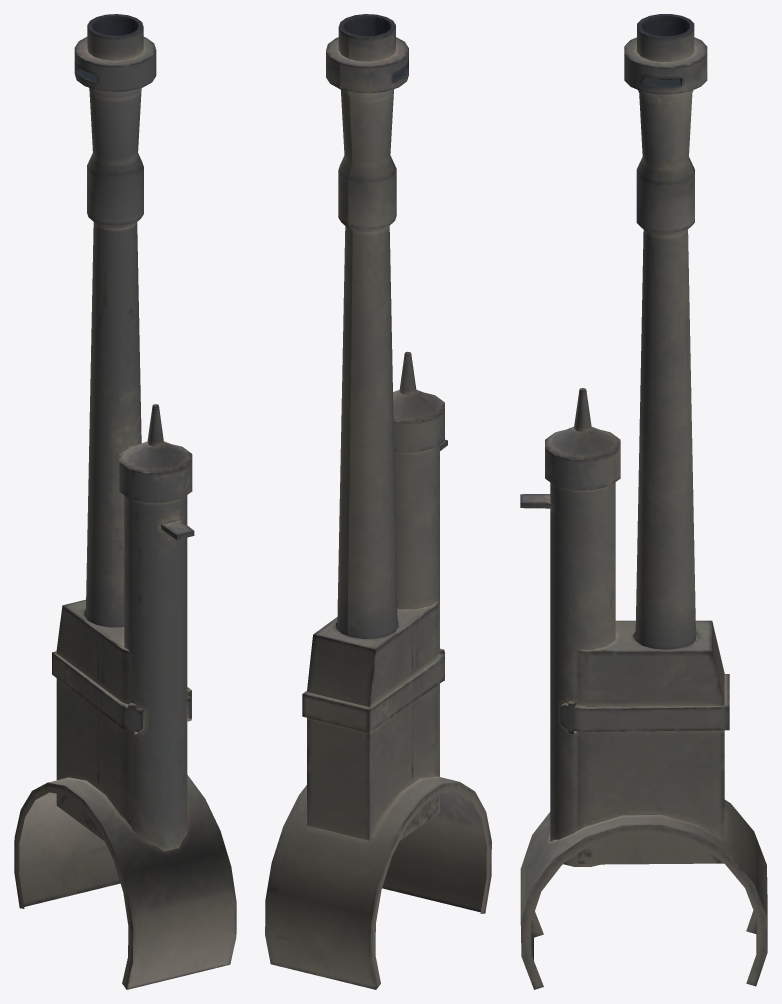
Rendered from Gun_05.glb.
3 views of the same model, side by side, from view 1: azimuth 30°, elevation 25°; view 2: azimuth 150°, elevation 25°; view 3: azimuth 270°, elevation 25° (orthographic). The views are drawn at different scales.
Visible parts, largest first — view 1: set_0_group_0; view 2: set_0_group_0; view 3: set_0_group_0.
Boxes of the visible parts, x1,y1,x2,y2 form: set_0_group_0: (14,14,236,989); set_0_group_0: (265,14,491,989); set_0_group_0: (520,14,767,989).
Size of the model in its own units: 0.1782 by 1.49 by 0.3558.
1 material, 1 textured.
